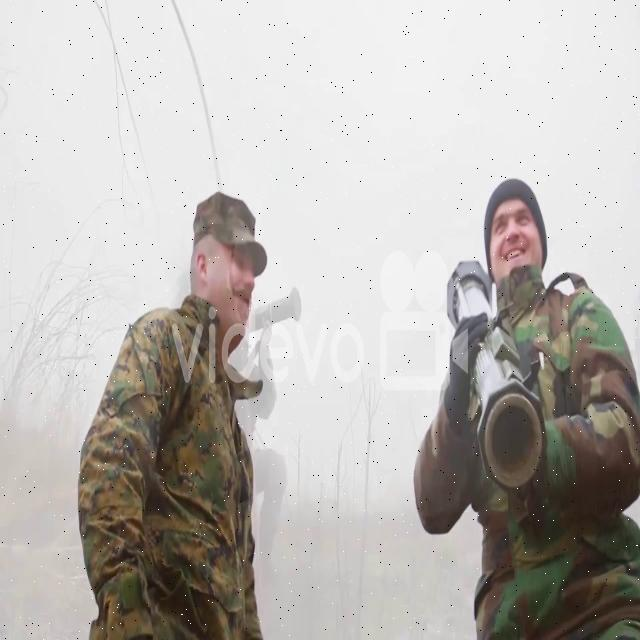bazooka: (449, 257, 553, 509)
